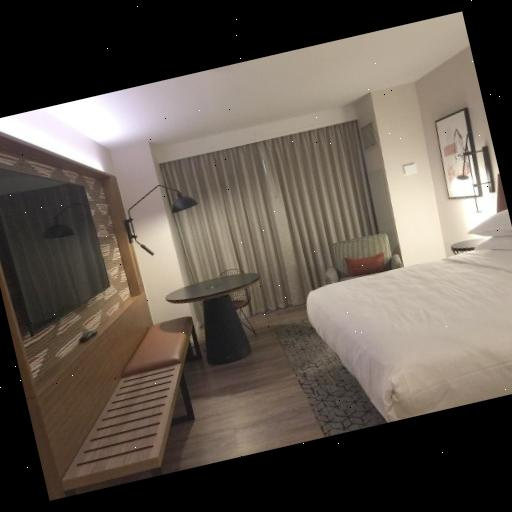clean_bed: (306, 176, 512, 428)
messy_table: (160, 266, 284, 380)
